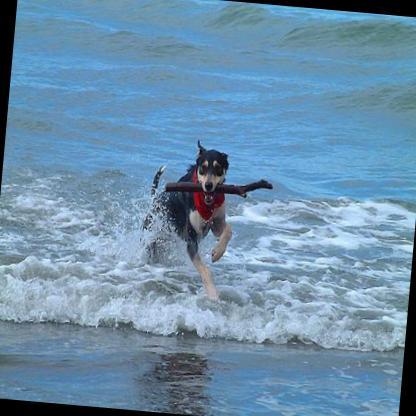kelpie: (125, 136, 247, 313)
